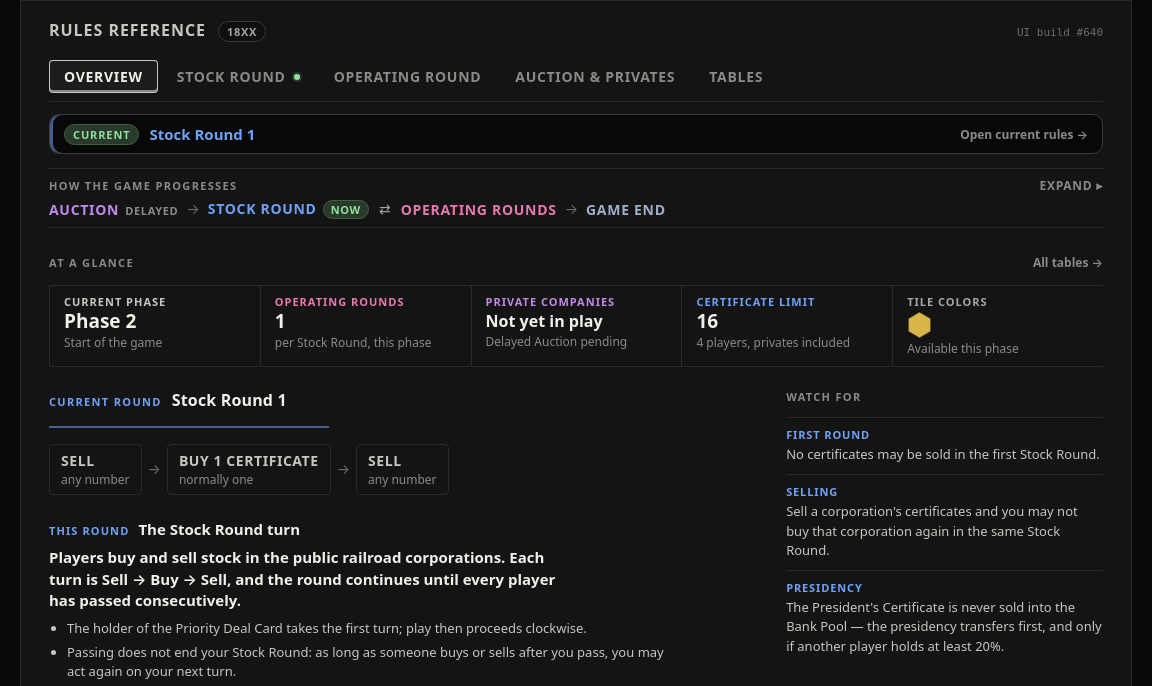
Test case: the Rules Reference on a Delayed Auction table (DA-F8e, f, g; the auction's rulings) › the Auction page states the delayed auction's rulings: the cancellation, the reserved share, the overage
This screenshot has width=1152, height=686.
Click the tab "Auction & Privates" at (595, 77), box [500,60,690,93]
(page scrolled)
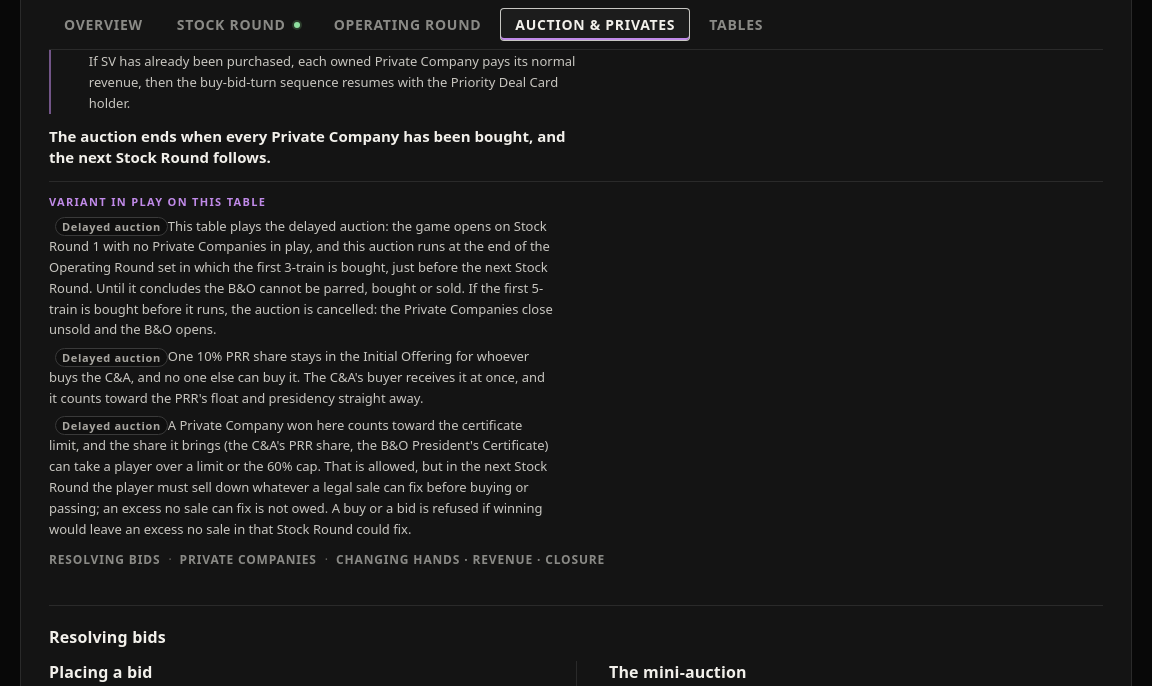
Check: the element with test id "rules-auction-variants" shows "If the first 5-train is bought before it runs, the auction is cancelled", box [49,216,553,338]
Check: the element with test id "rules-auction-variants" shows "One 10% PRR share stays in the Initial Offering for whoever buys the C&A", box [49,347,545,407]
